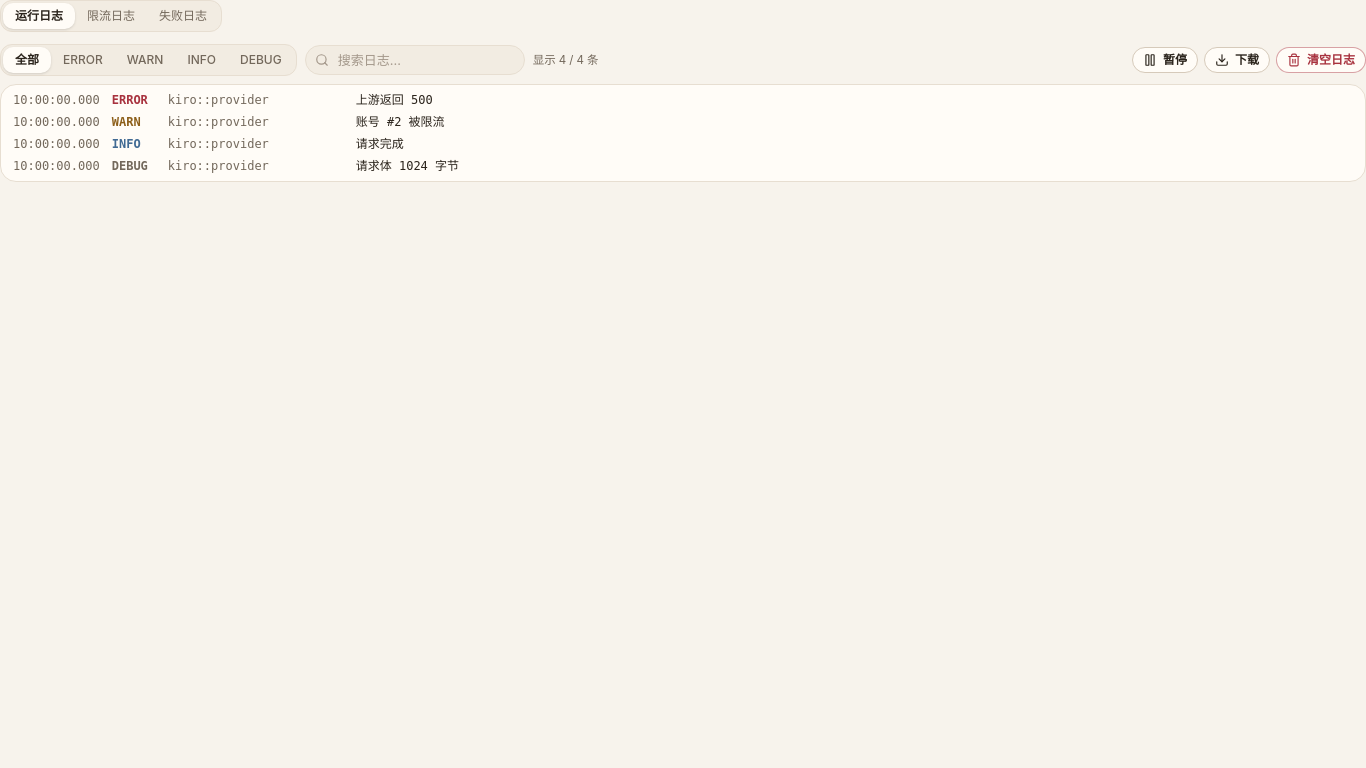
Test: labels the destructive clear action for what it does
Click the button "清空日志": (1321, 60) [1276,47,1365,73]
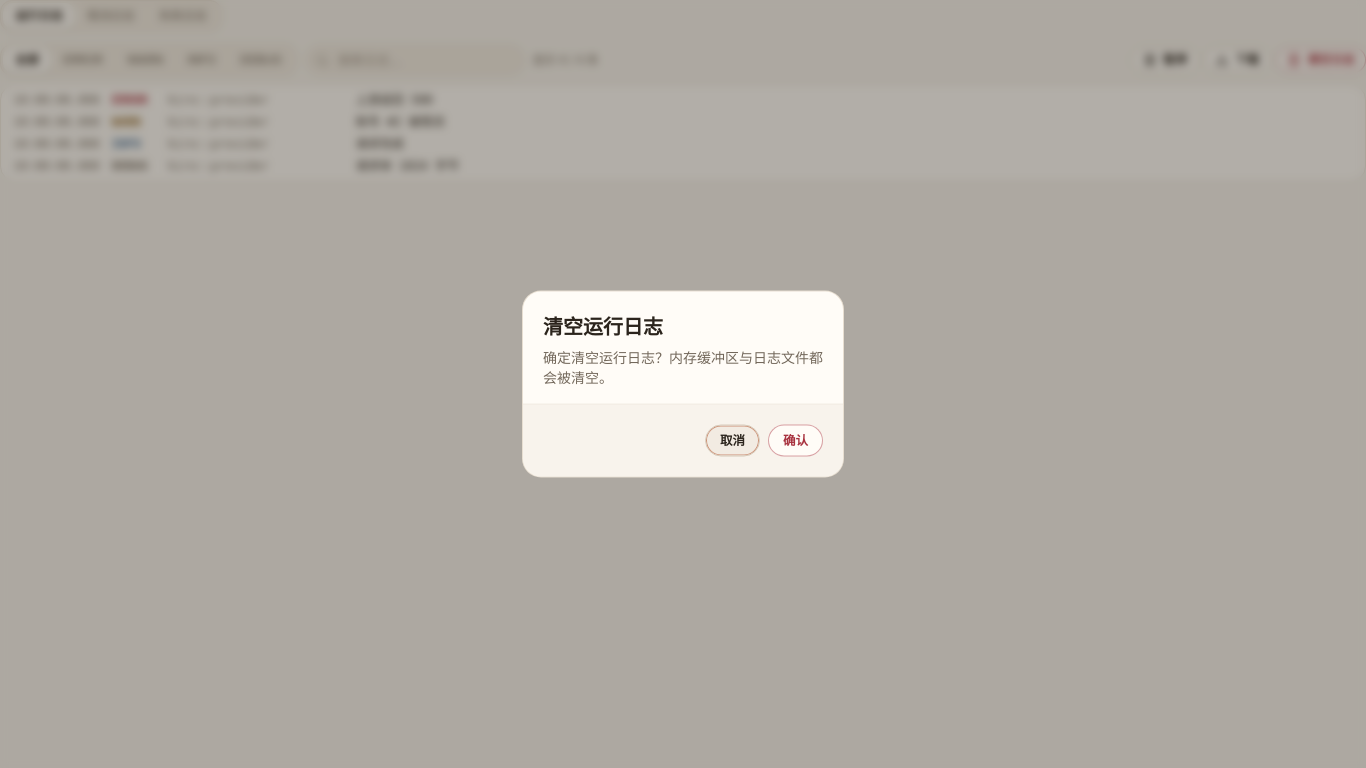
Expected: the dialog shows "内存缓冲区与日志文件都会被清空", [543,348,823,386]
